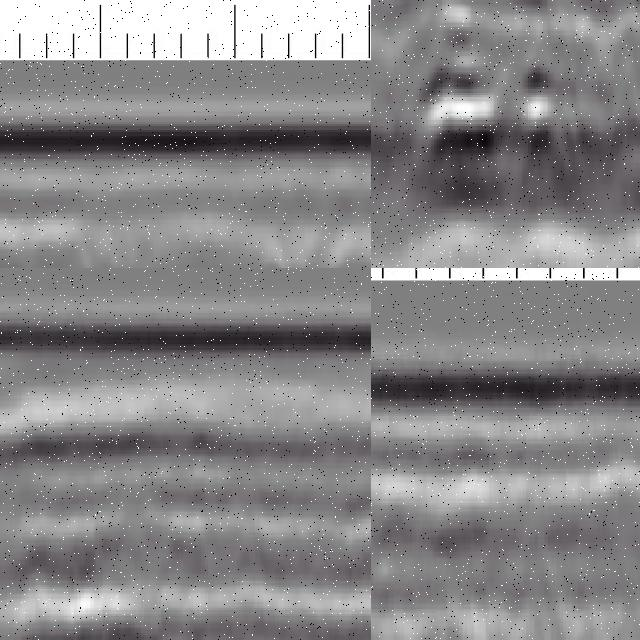loose: (407, 6, 564, 171)
